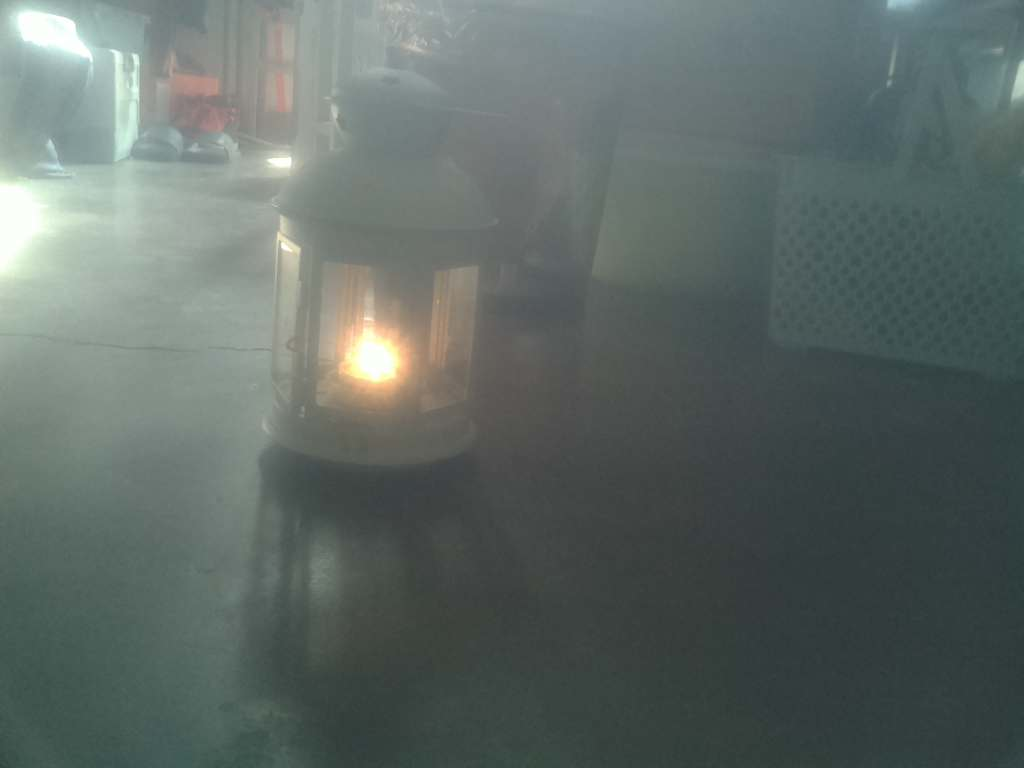fire: (318, 298, 427, 414)
